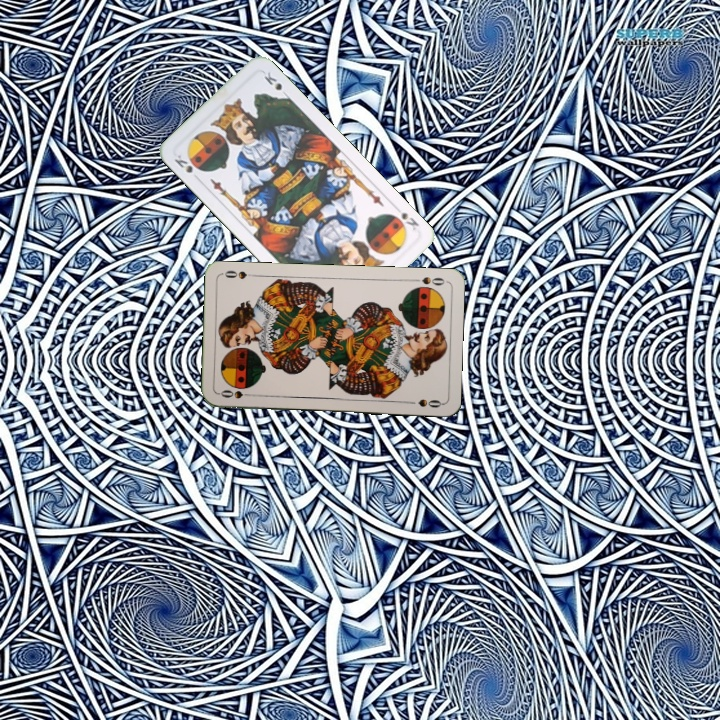SK: (170, 150, 203, 176), (397, 208, 422, 233)
SO: (216, 386, 256, 401), (408, 273, 447, 288)
